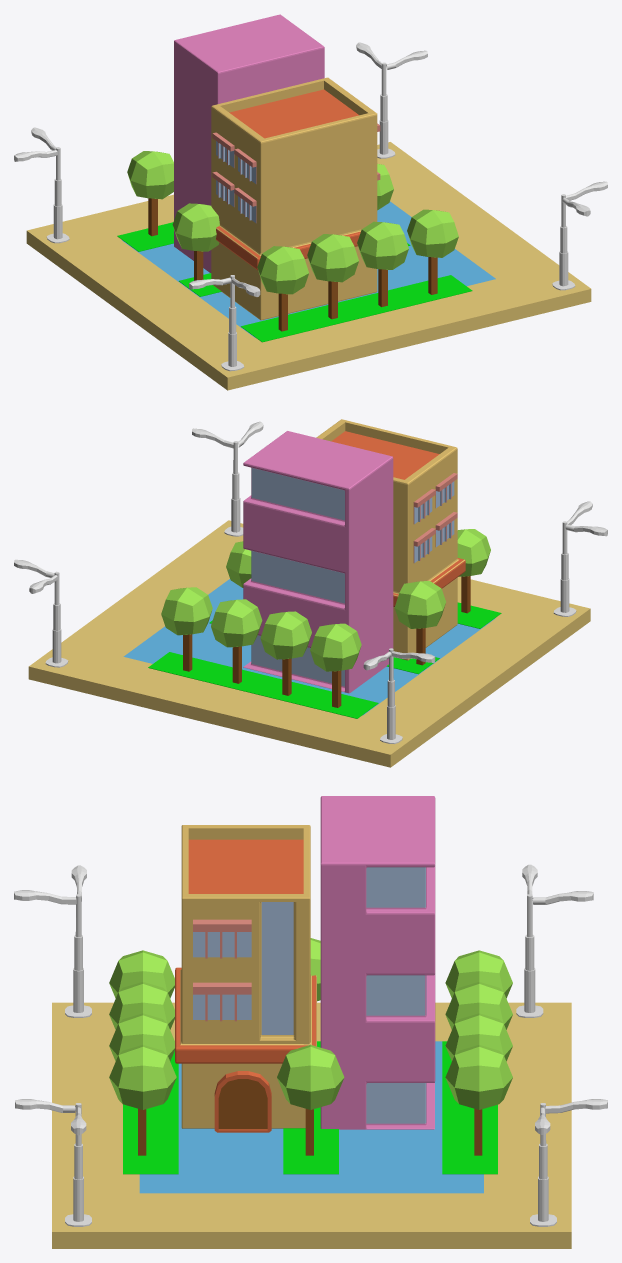
File: rua_quadra2.fbx
3 renders of one model, top to bottom at view 1: azimuth 30°, elevation 25°; view 2: azimuth 150°, elevation 25°; view 3: azimuth 270°, elevation 25°, orthographic. The views are drawn at different scales.
Parts seen in each view (by area): view 1: Plane.006, Cube.100, Cube.099, Cube.102, Plane.009, Cube.101, Cube.098, Cube.081, Cube.097, Cube.096, Cube.001, Cube.002; view 2: Plane.006, Cube.099, Cube.100, Cube.101, Plane.009, Cube.102, Cube.096, Cube.098, Cube.097, Cube.081, Cube.001, Cube.002; view 3: Plane.006, Cube.099, Cube.100, Cube.102, Plane.009, Cube.101, Cube.104, Cube.109, Cube.081, Cube.096, Cube.098, Cube.097.
Part boxes in pixels (x1,y1,x2,y2): Plane.006: [26, 142, 591, 390]; Cube.100: [211, 77, 377, 320]; Cube.099: [174, 14, 324, 272]; Cube.102: [172, 164, 458, 331]; Plane.009: [117, 222, 472, 342]; Cube.101: [127, 151, 173, 236]; Cube.098: [356, 42, 427, 158]; Cube.081: [14, 127, 69, 243]; Cube.097: [552, 181, 607, 290]; Cube.096: [189, 275, 260, 371]; Cube.001: [212, 132, 234, 207]; Cube.002: [234, 148, 256, 223]; Plane.006: [28, 520, 590, 767]; Cube.099: [243, 431, 393, 693]; Cube.100: [316, 419, 465, 660]; Cube.101: [161, 587, 361, 707]; Plane.009: [148, 602, 501, 718]; Cube.102: [226, 529, 490, 665]; Cube.096: [553, 501, 607, 616]; Cube.098: [14, 559, 68, 667]; Cube.097: [192, 421, 263, 536]; Cube.081: [363, 648, 435, 744]; Cube.001: [413, 489, 435, 563]; Cube.002: [435, 473, 457, 547]; Plane.006: [52, 1002, 571, 1248]; Cube.099: [320, 796, 435, 1129]; Cube.100: [175, 825, 316, 1128]; Cube.102: [109, 938, 344, 1155]; Plane.009: [123, 1041, 497, 1174]; Cube.101: [445, 950, 512, 1155]; Cube.104: [193, 919, 251, 1021]; Cube.109: [214, 1071, 271, 1132]; Cube.081: [516, 864, 593, 1017]; Cube.096: [14, 865, 91, 1017]; Cube.098: [530, 1099, 607, 1226]; Cube.097: [15, 1099, 91, 1226].
Bounding box in the file's own units: 793 × 397 × 755.
